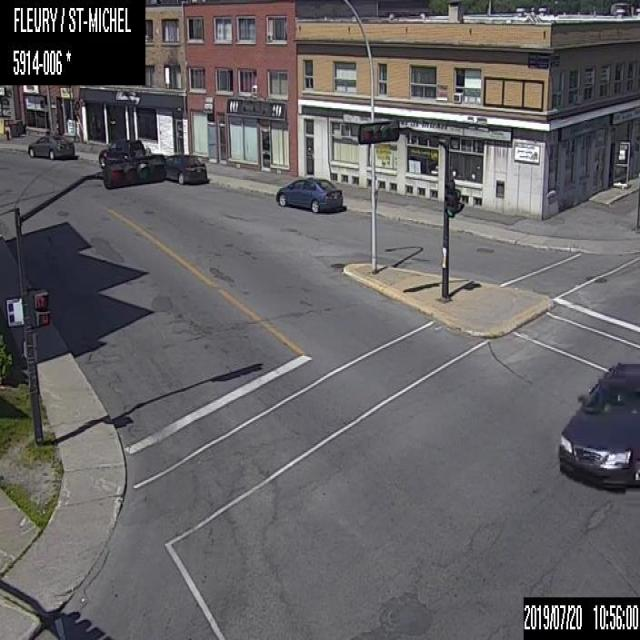vehicle: (555, 358, 639, 494), (274, 173, 344, 215), (24, 130, 76, 162), (98, 136, 146, 167), (165, 152, 208, 185)
